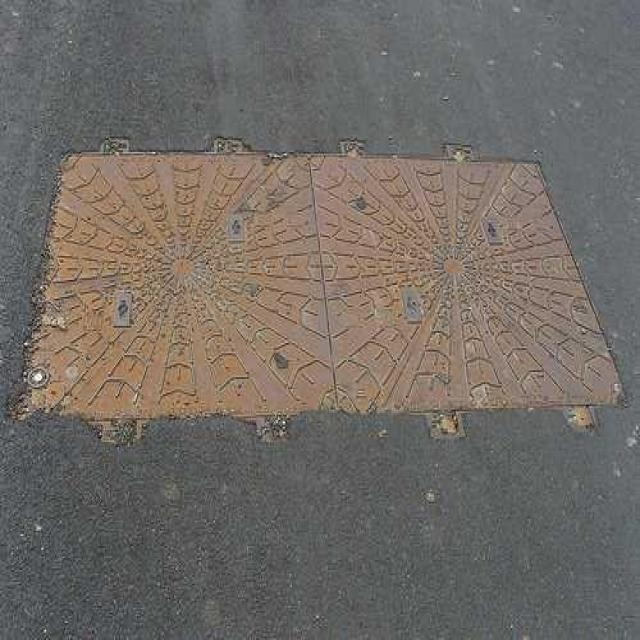manhole: (18, 145, 625, 430)
